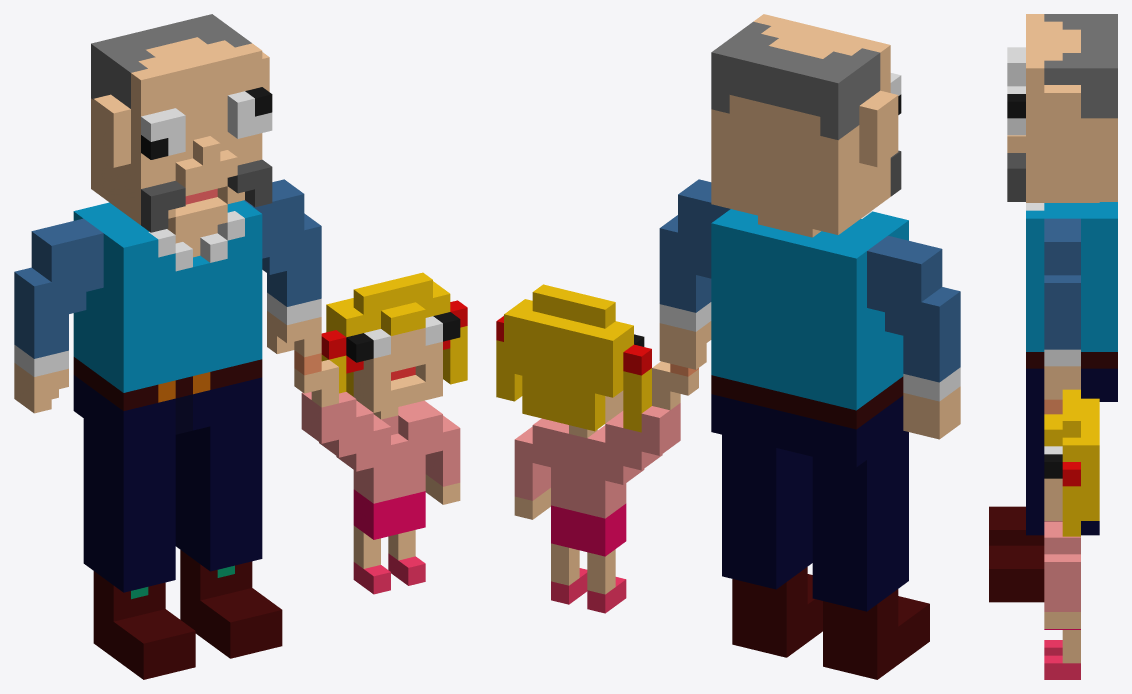
Rendered from kolo2 (2).obj.
The picture shows the model from 3 angles, left to right: view 1: azimuth 30°, elevation 25°; view 2: azimuth 150°, elevation 25°; view 3: azimuth 270°, elevation 25°; orthographic projection. The views are drawn at different scales.
Size of the model in its own units: 25 by 32 by 7.
